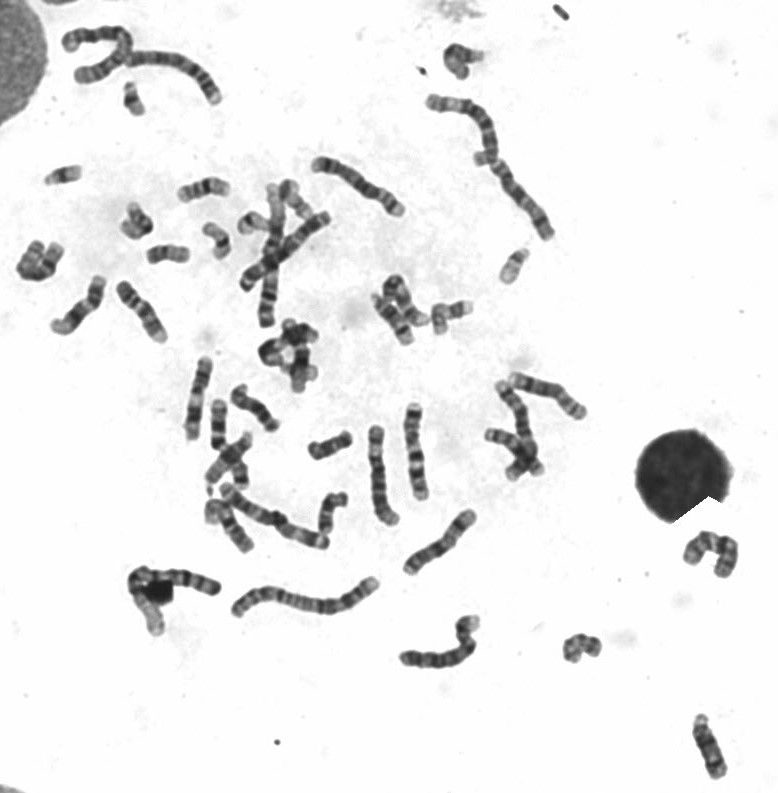chromosomes: (233, 203, 339, 297), (230, 569, 390, 626), (214, 480, 335, 555), (118, 558, 226, 642), (309, 150, 411, 223), (397, 499, 486, 582), (419, 86, 503, 173), (394, 603, 492, 674), (123, 45, 227, 111), (488, 153, 560, 247), (248, 177, 289, 333), (490, 373, 541, 489), (56, 16, 135, 89), (672, 515, 746, 585), (254, 323, 333, 388), (205, 393, 254, 495), (510, 369, 592, 427), (48, 270, 111, 342), (398, 398, 439, 507), (364, 419, 403, 531), (111, 276, 171, 348), (479, 422, 550, 482), (685, 704, 735, 786), (280, 308, 322, 405), (198, 496, 259, 557), (359, 285, 419, 346), (180, 353, 218, 446), (378, 269, 434, 331), (11, 232, 71, 289), (203, 426, 258, 488), (435, 30, 491, 88), (228, 377, 284, 434), (554, 628, 614, 672), (194, 215, 238, 273), (172, 173, 234, 214), (304, 417, 357, 464), (432, 294, 478, 342), (275, 173, 317, 225), (33, 157, 88, 196), (314, 486, 355, 538), (494, 241, 538, 289), (116, 199, 159, 246), (119, 76, 154, 125), (139, 239, 196, 268), (237, 209, 275, 239), (278, 361, 321, 383)
